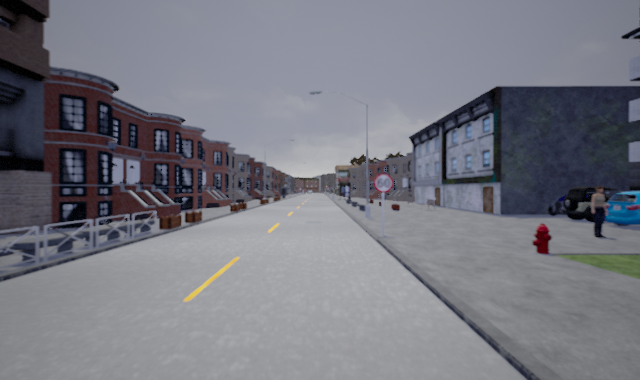pedestrian: (587, 183, 609, 239)
vehicle: (565, 186, 631, 221), (605, 188, 640, 225)
